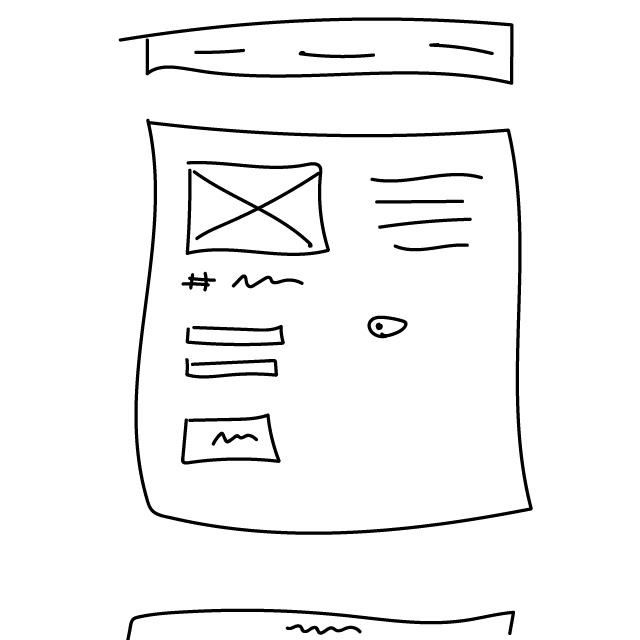button: (177, 412, 287, 467)
checkbox: (367, 314, 414, 341)
container: (128, 113, 546, 548)
footer: (120, 588, 522, 640)
frame: (182, 158, 333, 263)
heading: (178, 266, 315, 299)
input: (183, 355, 287, 383), (184, 321, 287, 349)
nav: (118, 14, 521, 92)
text: (363, 170, 500, 259)
